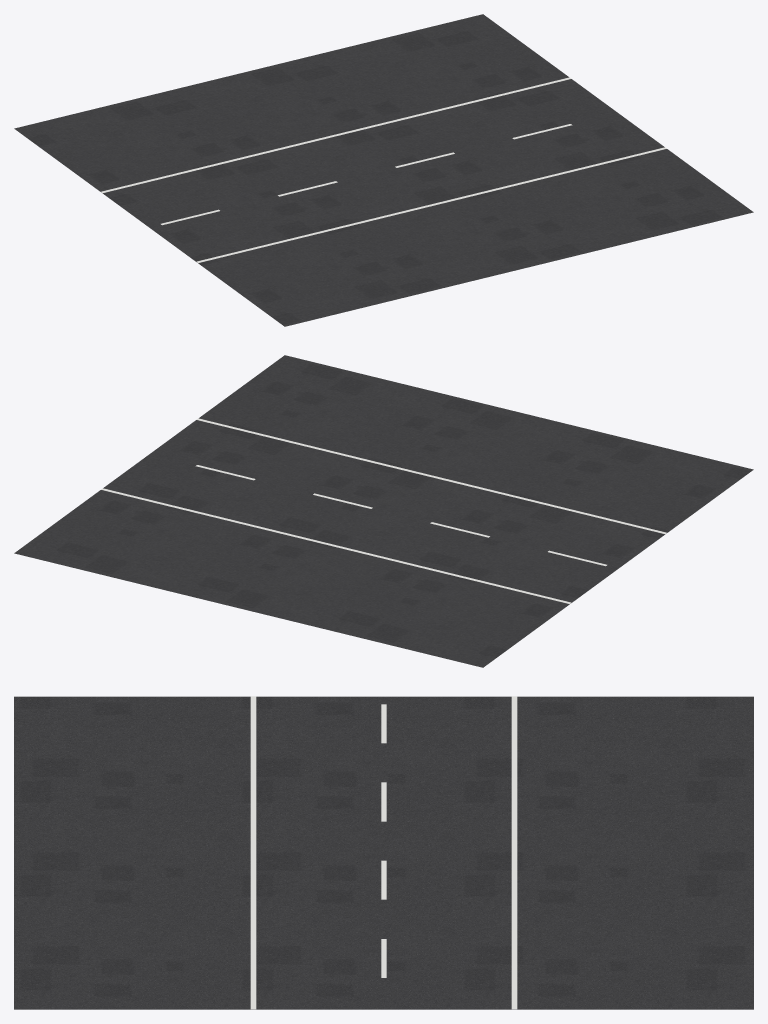
File: ew-road.works-v1.lod0.glb
3 views of the same model, one above another, from view 1: azimuth 30°, elevation 25°; view 2: azimuth 150°, elevation 25°; view 3: azimuth 270°, elevation 25° (orthographic). The views are drawn at different scales.
Parts seen in each view (by area): view 1: ew-road; view 2: ew-road; view 3: ew-road.
Part boxes in pixels (left/top/right/bottom): ew-road: left=14, top=14, right=753, bottom=326; ew-road: left=14, top=355, right=753, bottom=667; ew-road: left=14, top=696, right=753, bottom=1009.
Size of the model in its own units: 20 by 0.00977 by 20.
2 materials, 1 textured.
